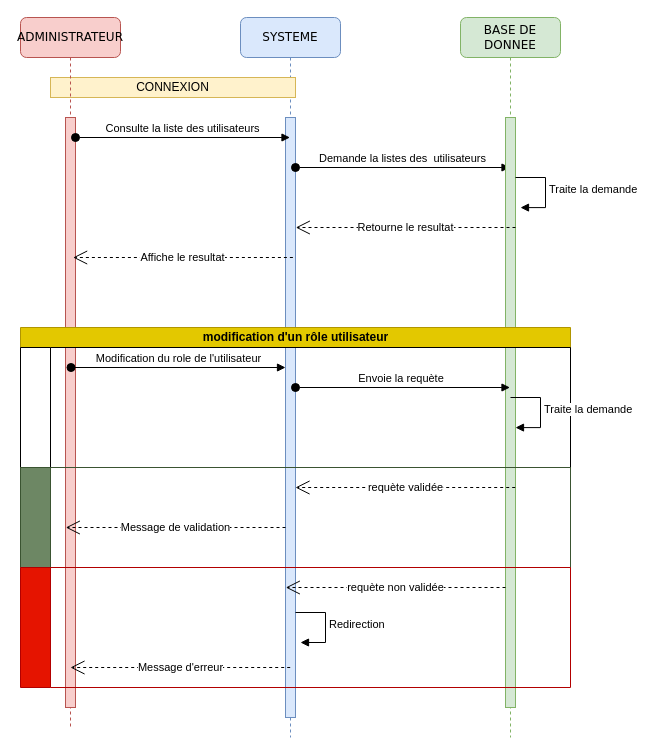
Image size: 654x755. Some labels were removed from this diagram. The centre of each missing label's shape, as x and y in pixels:
"non validée" belongs at pixel 295 627.
"validée" belongs at pixel 295 517.
